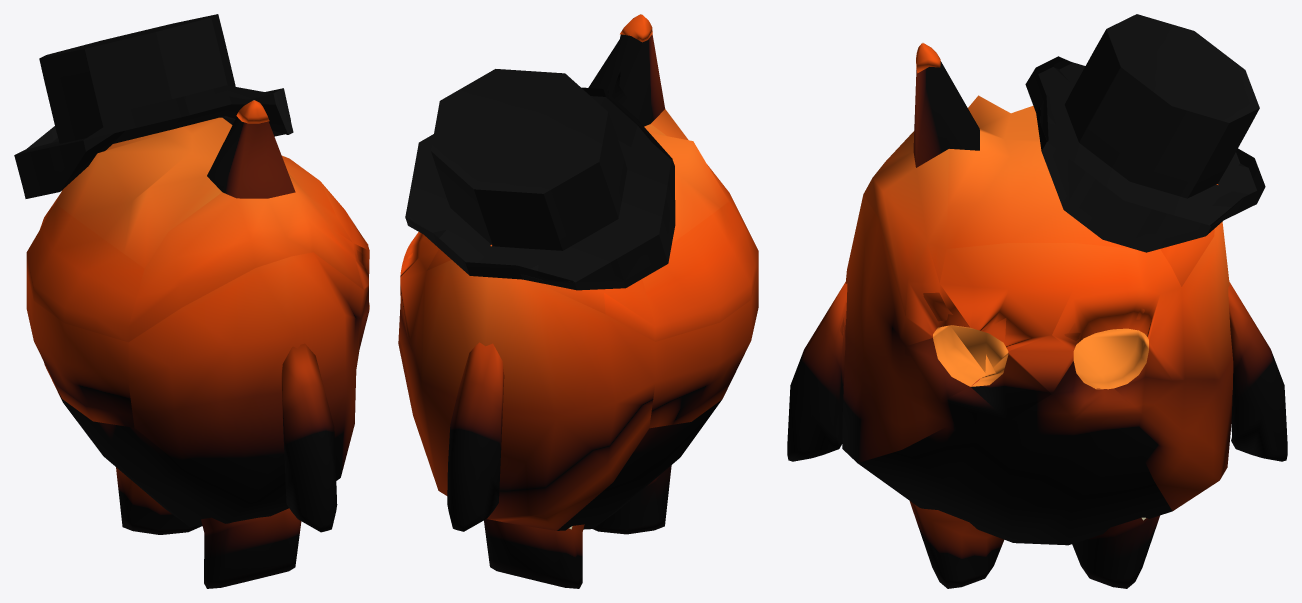
File: fire spirit 3.fbx
The picture shows the model from 3 angles, left to right: view 1: azimuth 30°, elevation 25°; view 2: azimuth 150°, elevation 25°; view 3: azimuth 270°, elevation 25°; orthographic projection. The views are drawn at different scales.
Parts seen in each view (by area): view 1: Cube.001; view 2: Cube.001; view 3: Cube.001.
Boxes of the visible parts, x1,y1,x2,y2 form: Cube.001: (14,14,369,588); Cube.001: (398,14,758,588); Cube.001: (787,14,1287,588).
Size of the model in its own units: 275 by 433 by 373.
2 materials, 2 textured.
